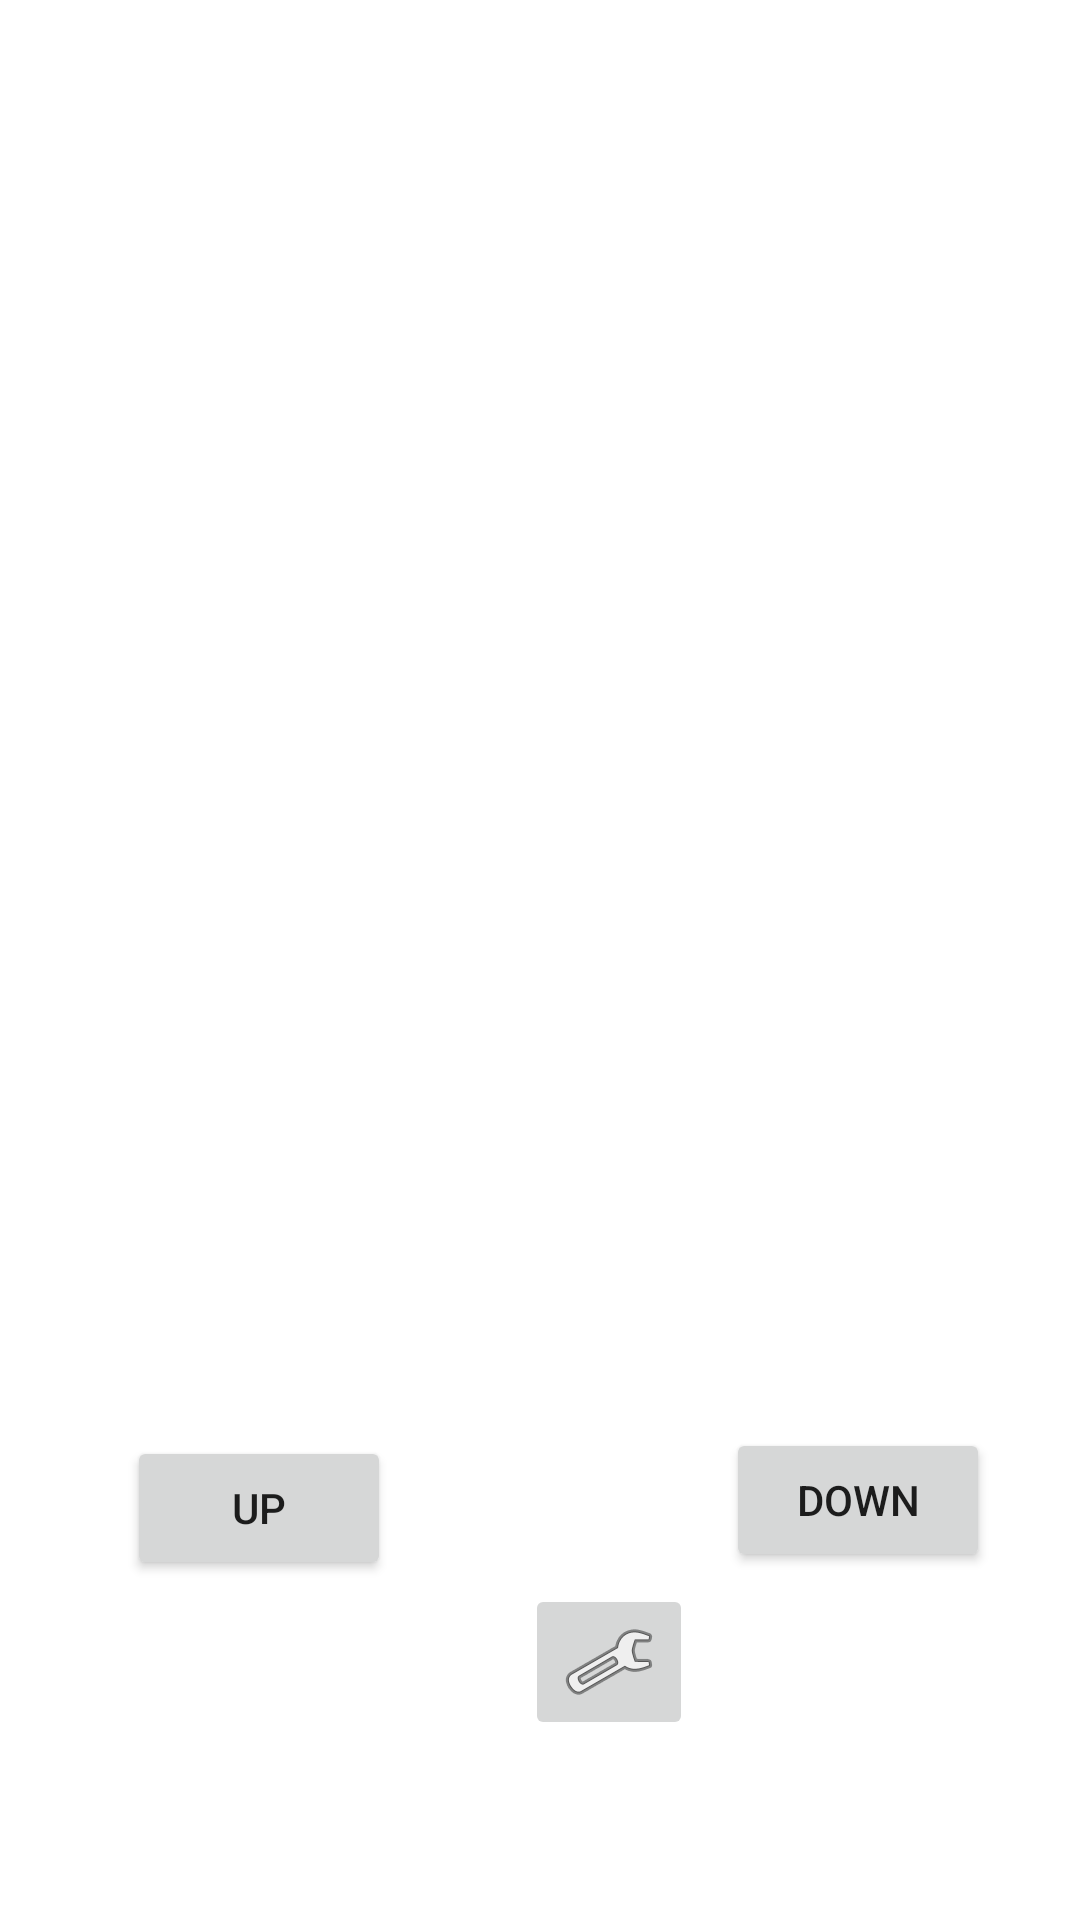

Screen size 1080 x 1920. Icon name, then its box in pixels as (x1, y1, x2, y2):
preferences: (537, 1602, 681, 1722)
